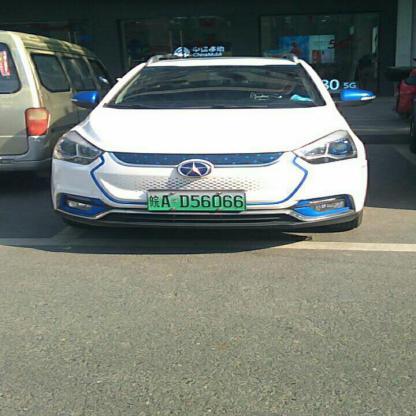lp: (146, 192, 246, 210)
